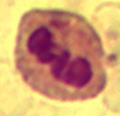neutrophil: (13, 8, 114, 106)
